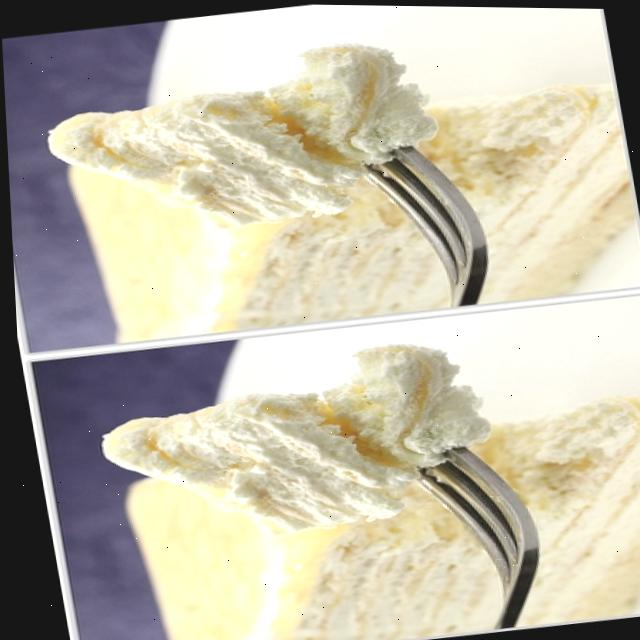蛋糕甜品: (12, 15, 640, 359)
